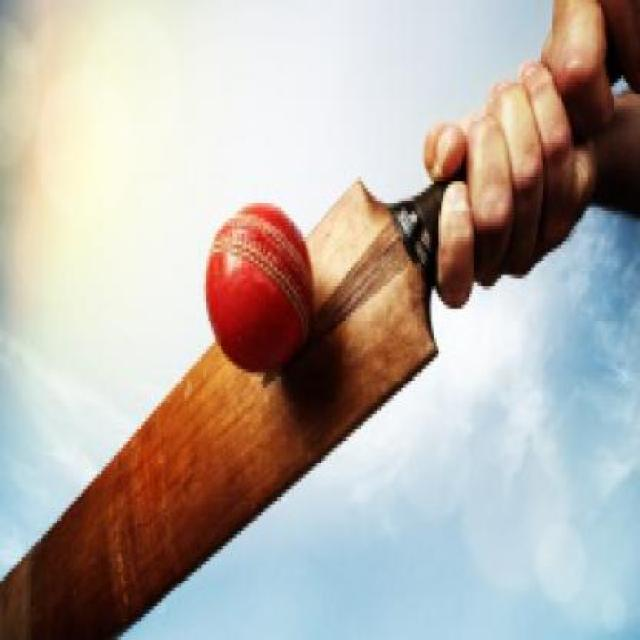ball: (168, 186, 370, 388)
